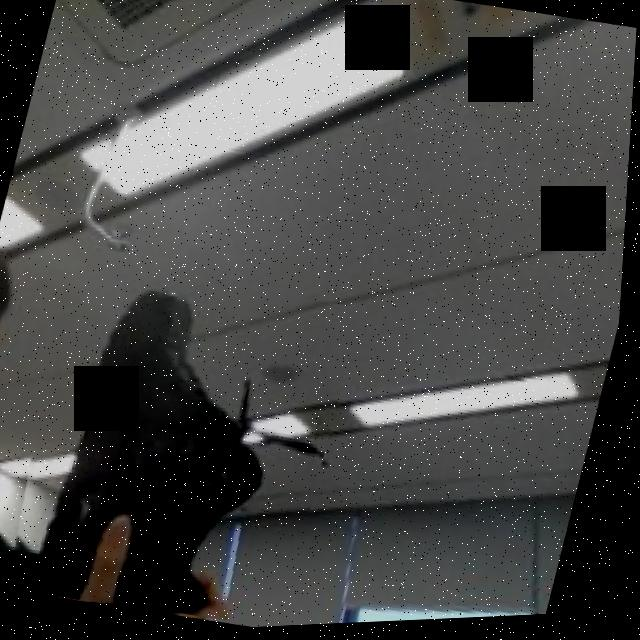shoe: (0, 253, 368, 639)
